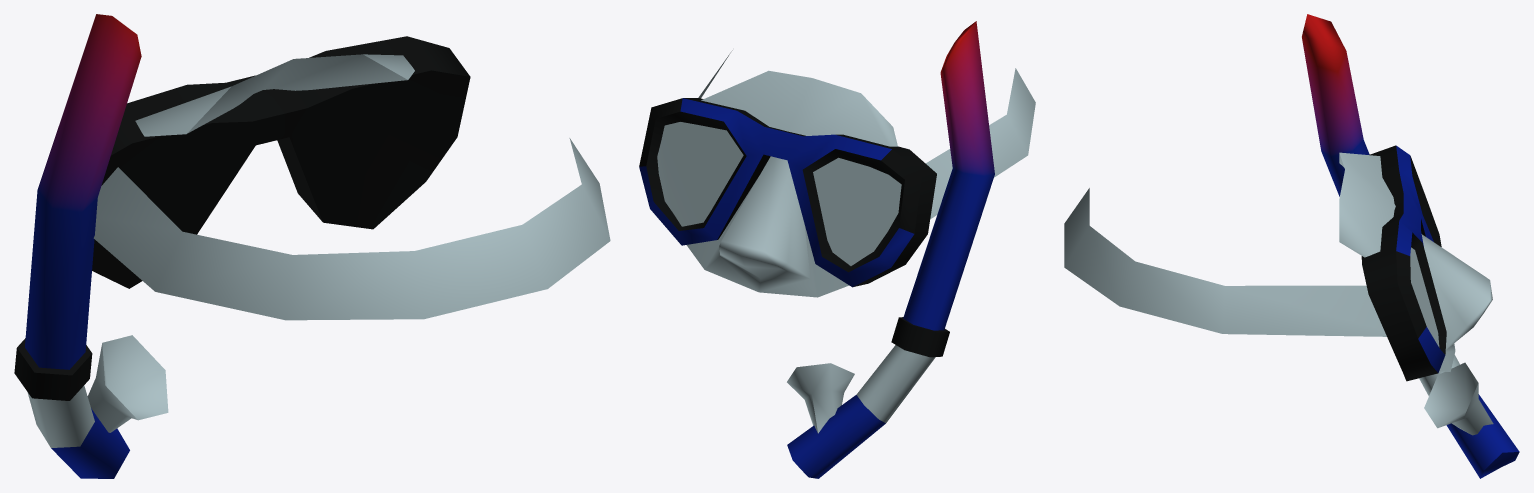
Rendered from hat_snorkelblue.glb.
3 renders of one model, left to right at view 1: azimuth 30°, elevation 25°; view 2: azimuth 150°, elevation 25°; view 3: azimuth 270°, elevation 25°, orthographic. The views are drawn at different scales.
Parts seen in each view (by area): view 1: hat_snorkelblue; view 2: hat_snorkelblue; view 3: hat_snorkelblue.
Boxes of the visible parts, x1,y1,x2,y2 form: hat_snorkelblue: (14, 14, 610, 478); hat_snorkelblue: (639, 21, 1035, 478); hat_snorkelblue: (1064, 14, 1519, 478).
Size of the model in its own units: 0.4464 by 0.5233 by 0.5111.
